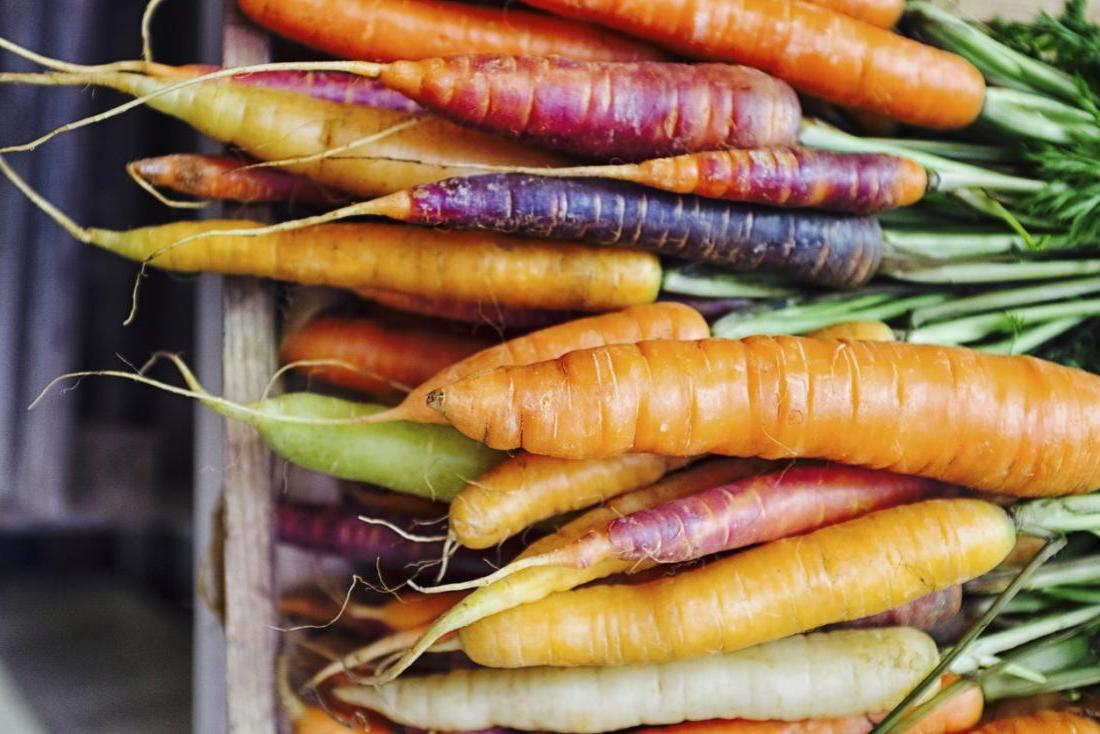carrot: (60, 202, 763, 484), (135, 0, 1007, 140), (437, 320, 1100, 503), (420, 569, 977, 646)
